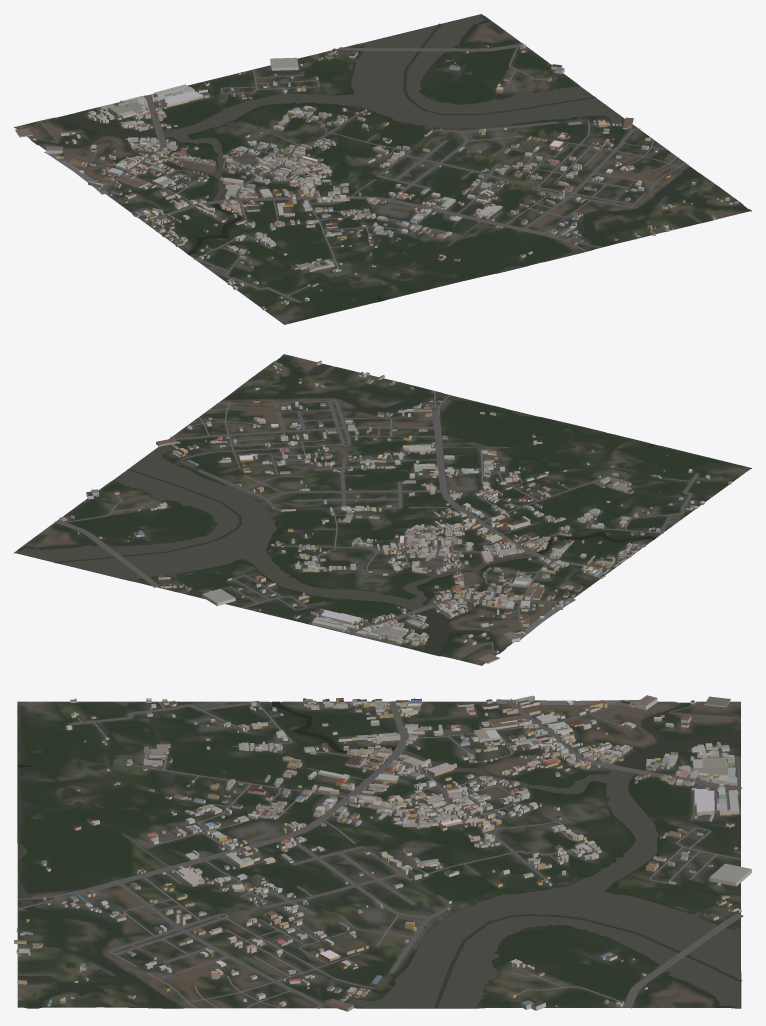
3 views of the same model, one above another, from view 1: azimuth 30°, elevation 25°; view 2: azimuth 150°, elevation 25°; view 3: azimuth 270°, elevation 25° (orthographic). The views are drawn at different scales.
Parts seen in each view (by area): view 1: ground, buildings, water, roads; view 2: ground, buildings, water, roads; view 3: ground, buildings, water, roads.
Part boxes in pixels (x1,y1,x2,y2): ground: (14,15,751,324); buildings: (15,43,738,310); water: (33,14,746,301); roads: (30,43,739,302); ground: (14,354,751,665); buildings: (59,360,732,663); water: (15,357,656,655); roads: (54,357,704,659); ground: (17,701,741,1008); buildings: (14,695,751,1011); water: (18,701,742,1008); roads: (16,699,743,1008).
Size of the model in its own units: 1434 by 24.1 by 1429.
